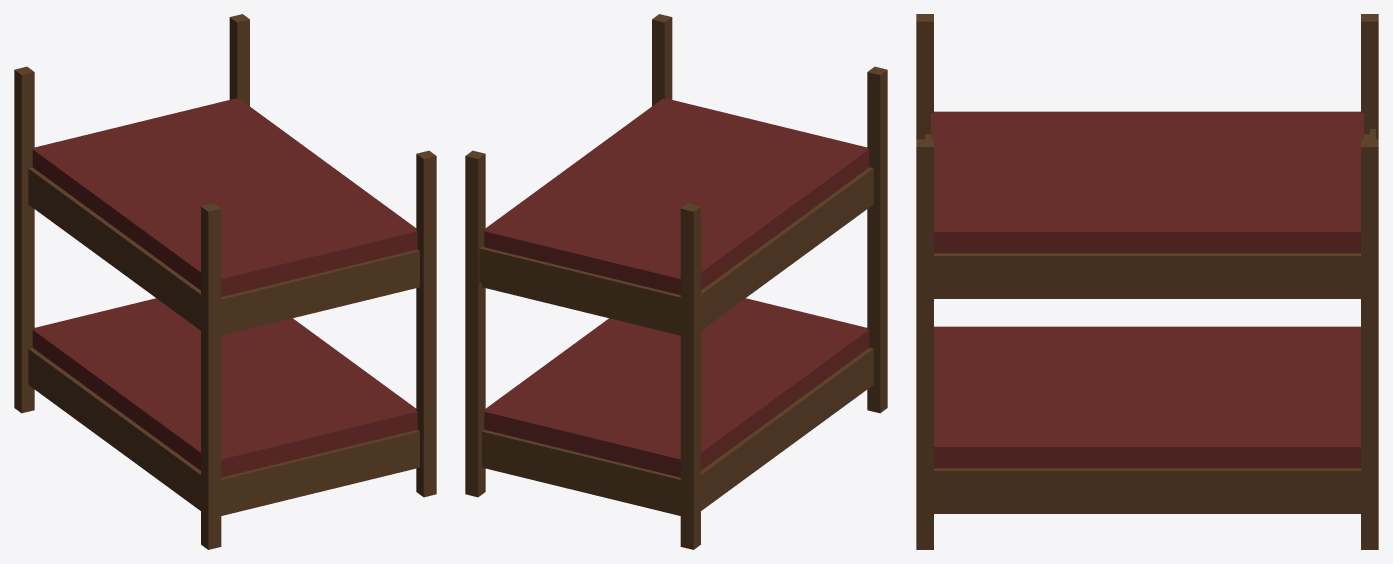
The model's file is living_bunk.glb.
3 renders of one model, left to right at view 1: azimuth 30°, elevation 25°; view 2: azimuth 150°, elevation 25°; view 3: azimuth 270°, elevation 25°, orthographic. The views are drawn at different scales.
Parts seen in each view (by area): view 1: sw5e_int_living_bunk; view 2: sw5e_int_living_bunk; view 3: sw5e_int_living_bunk.
Part boxes in pixels (x1=…): sw5e_int_living_bunk: x1=14, y1=14, x2=436, y2=549; sw5e_int_living_bunk: x1=465, y1=14, x2=887, y2=549; sw5e_int_living_bunk: x1=916, y1=14, x2=1378, y2=549.
Size of the model in its own units: 1.06 by 1.5 by 1.56.
